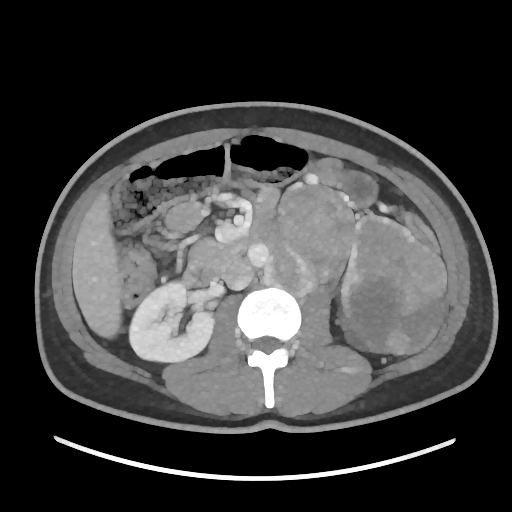Lesion: (339, 216, 448, 319)
